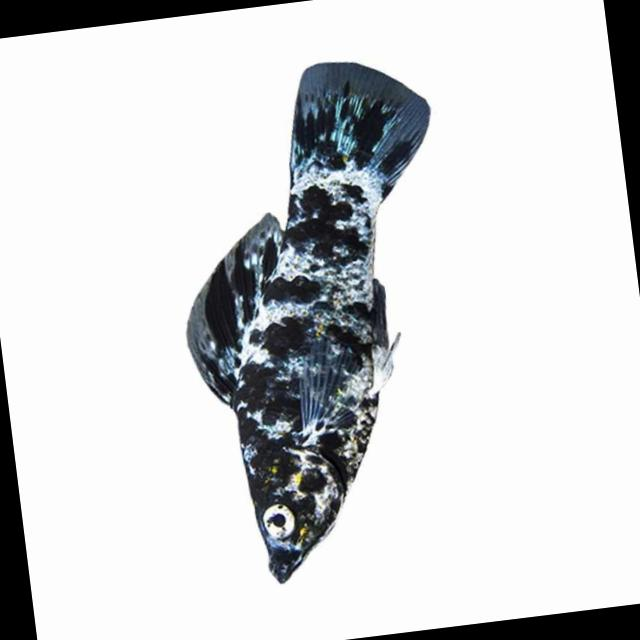PlatyFish: (122, 36, 502, 631)
